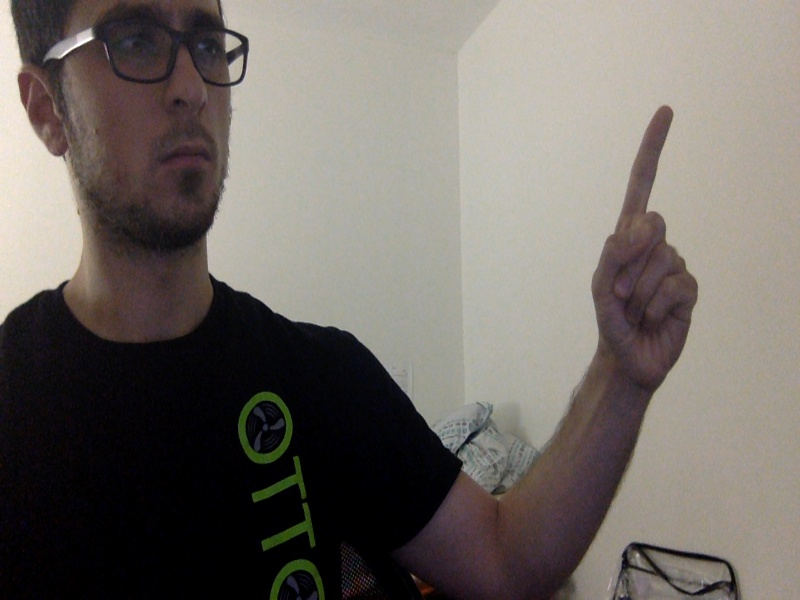1-hand: (590, 105, 704, 384)
